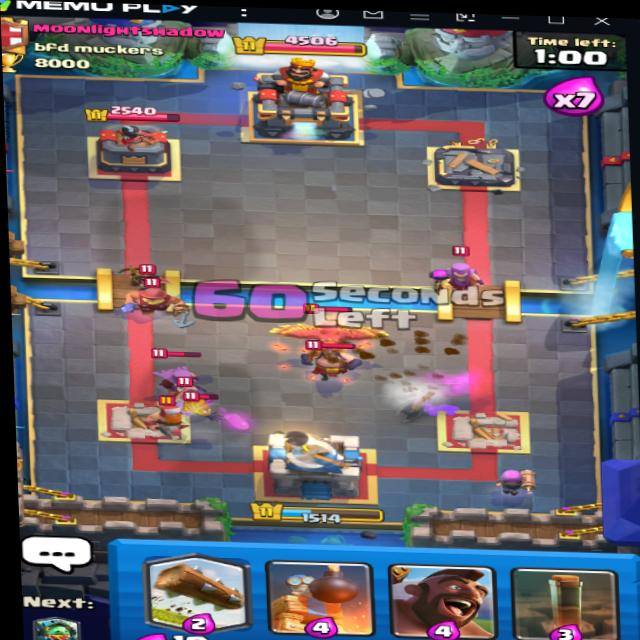executioner: (294, 340, 365, 379)
fisherman: (125, 249, 204, 305)
little-prince: (120, 230, 174, 276)
lumberjack: (143, 393, 210, 427)
mother-witch: (152, 342, 208, 398), (424, 245, 485, 296)
phoenix: (275, 298, 379, 356)
